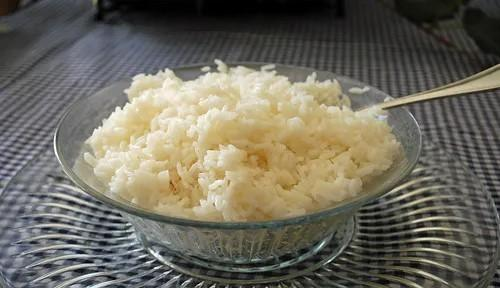WhiteRice: (89, 60, 401, 210)
